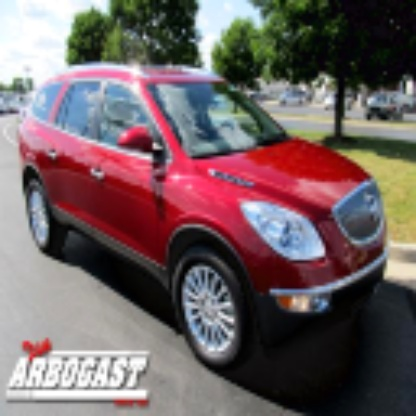Vehicle: (18, 61, 390, 374)
